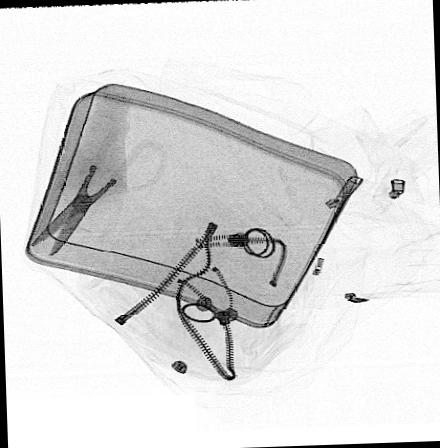Scissors: (31, 106, 168, 256)
